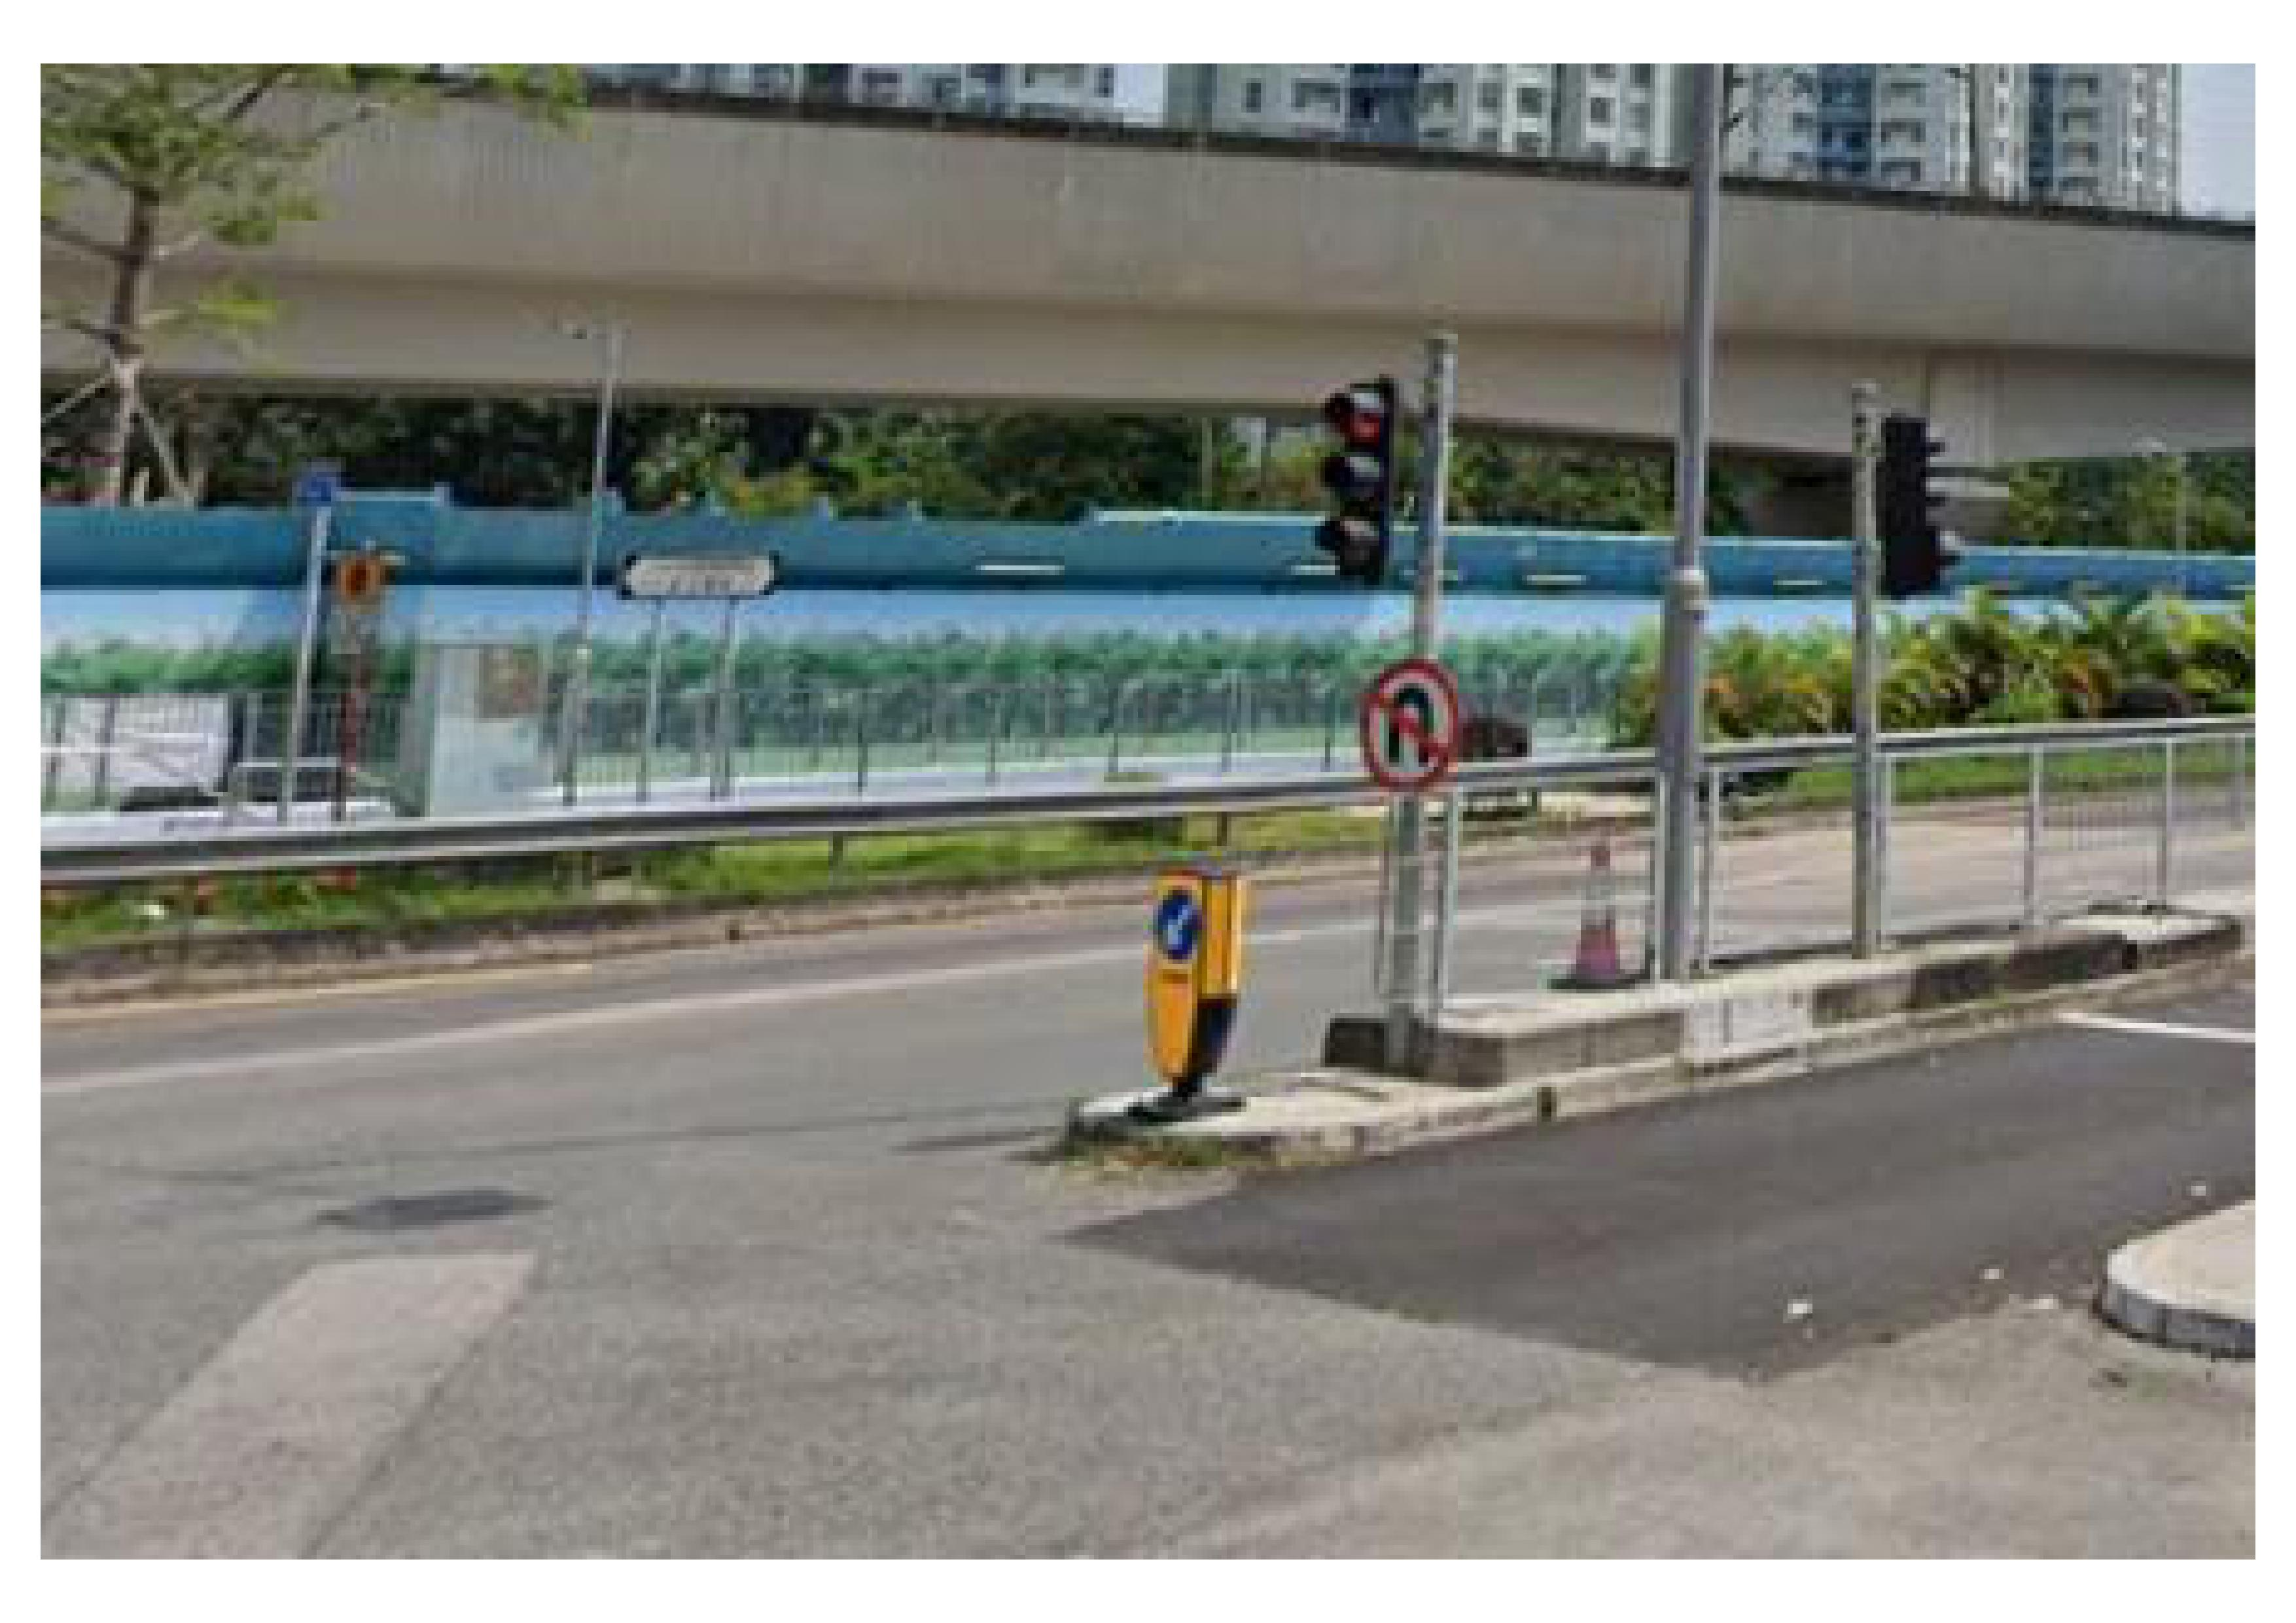No Uturn: (1360, 660, 1466, 790)
